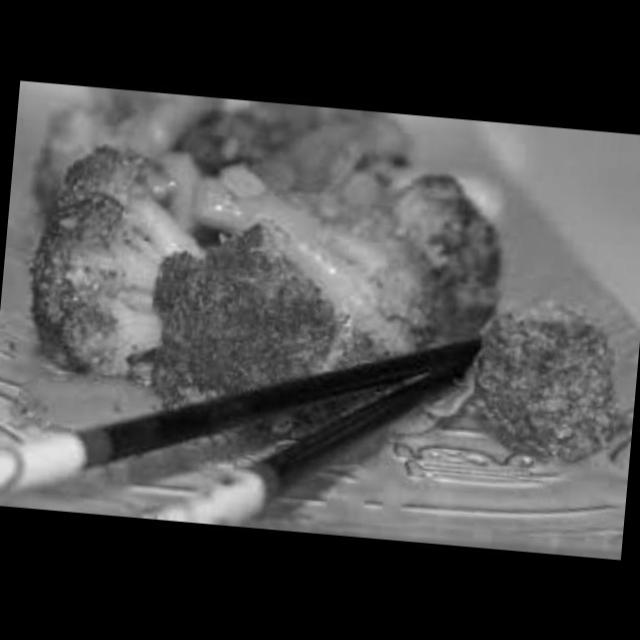broccoli: (1, 114, 556, 432), (452, 270, 640, 468)
